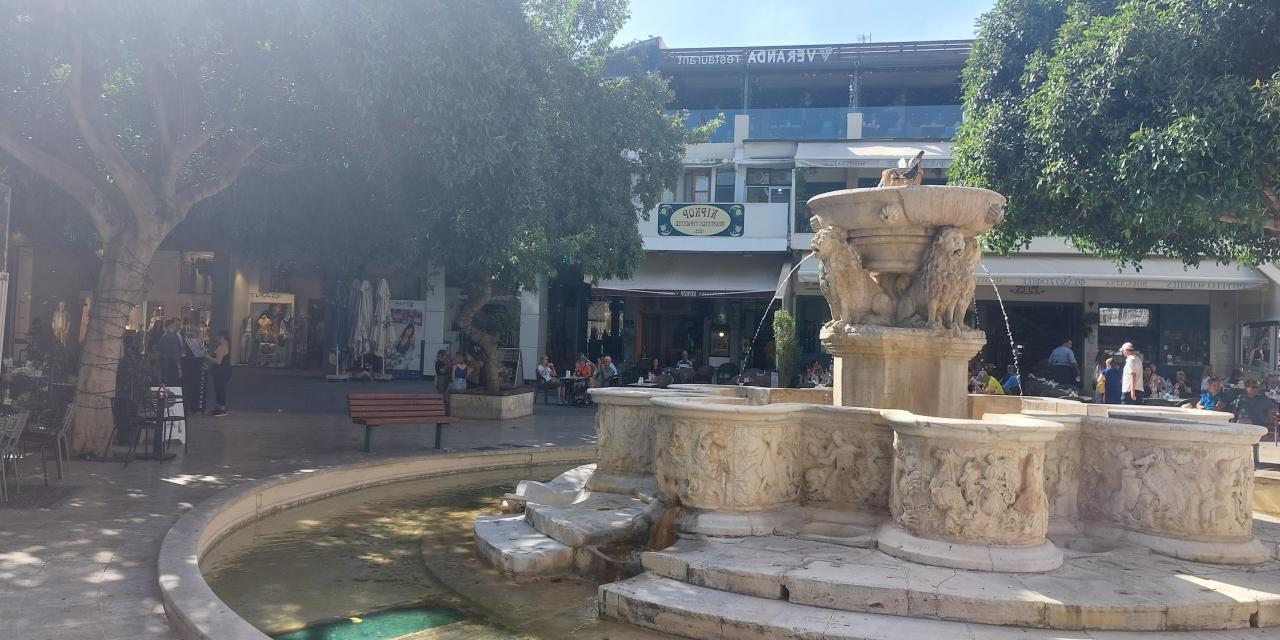Liontaria: (590, 177, 1265, 563)
